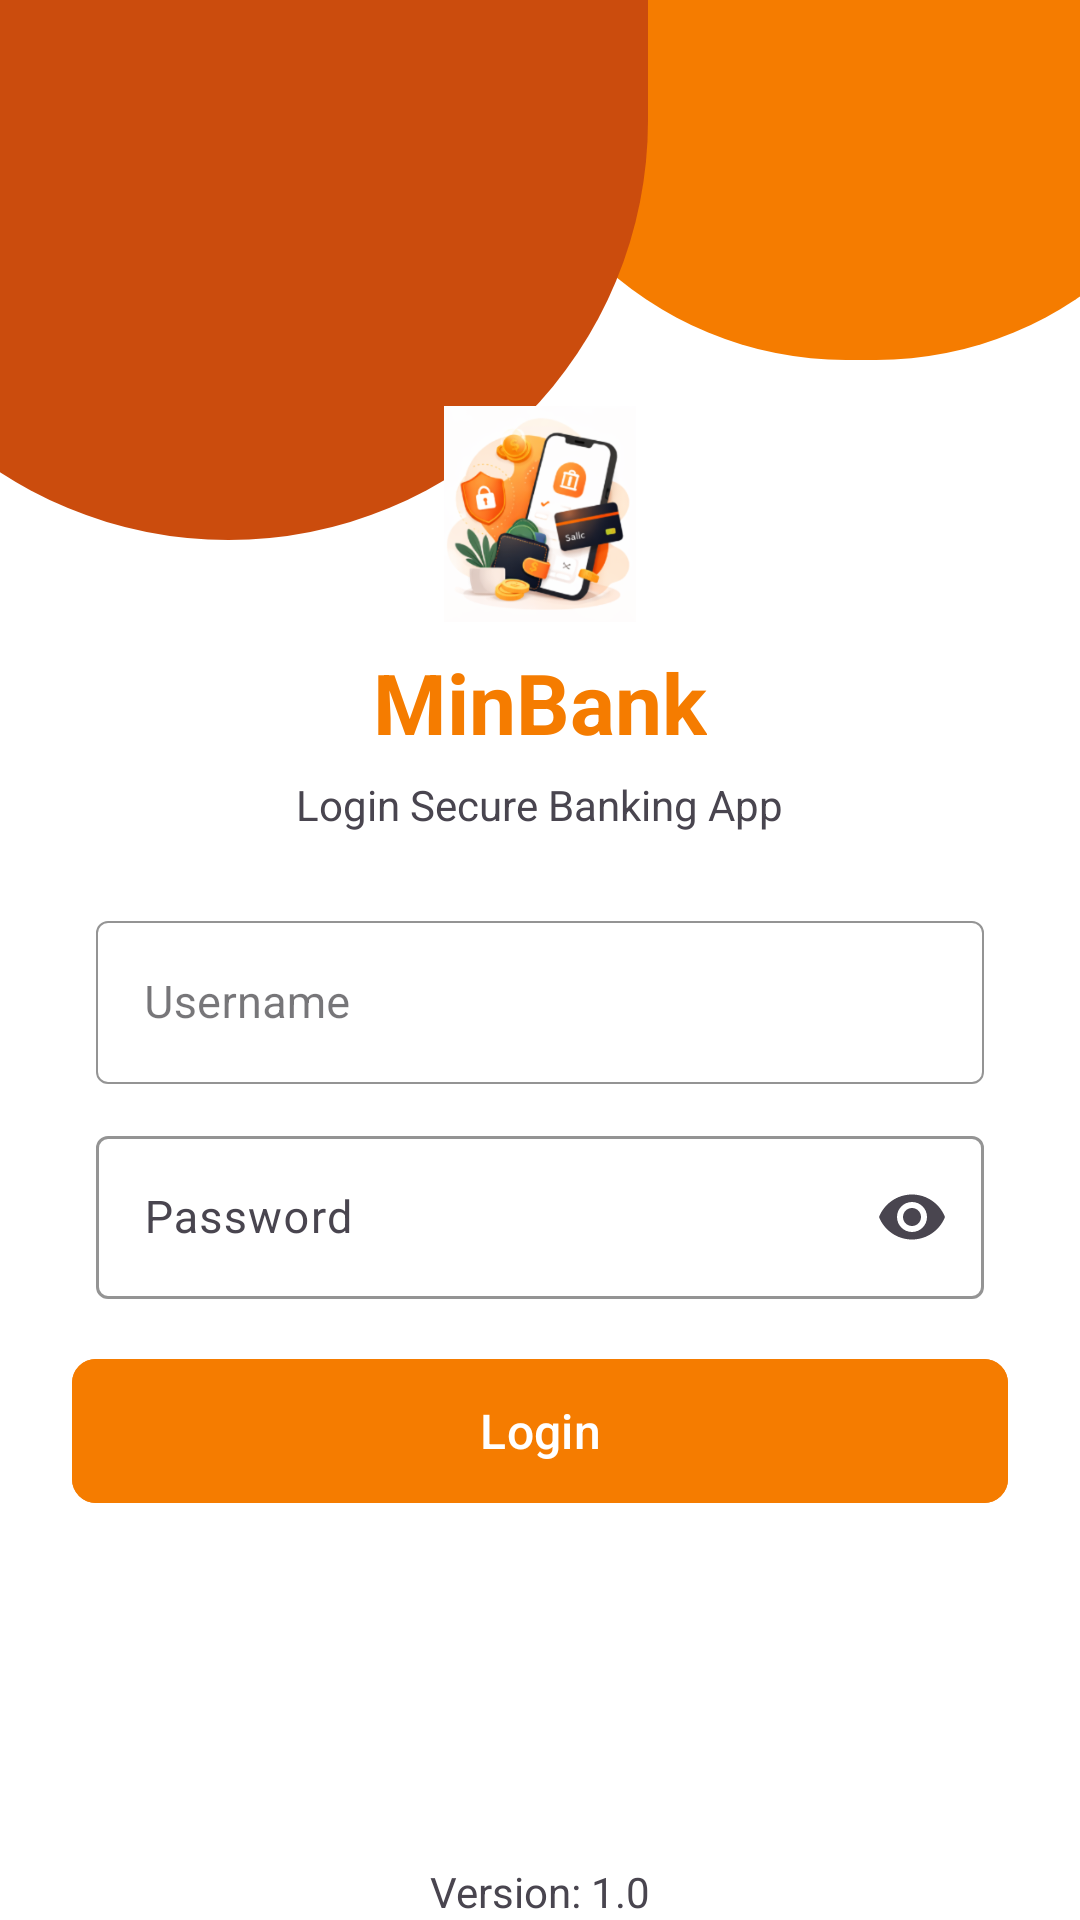

Icons on this 1080x1920 Android screen, each with the point to tap as [x,y]:
onboarding: [539,519]
